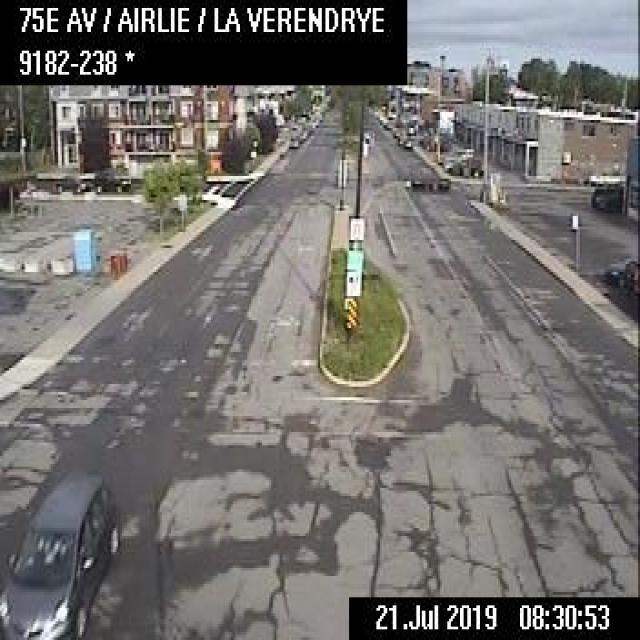construction: (108, 253, 118, 276), (118, 251, 126, 271), (115, 252, 121, 271)
vehicle: (0, 467, 118, 637), (603, 254, 638, 287), (405, 164, 449, 188), (91, 168, 131, 192), (588, 184, 622, 209), (286, 134, 296, 148), (401, 135, 411, 147)
